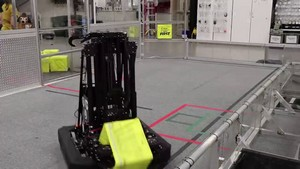cube: (95, 120, 154, 169)
